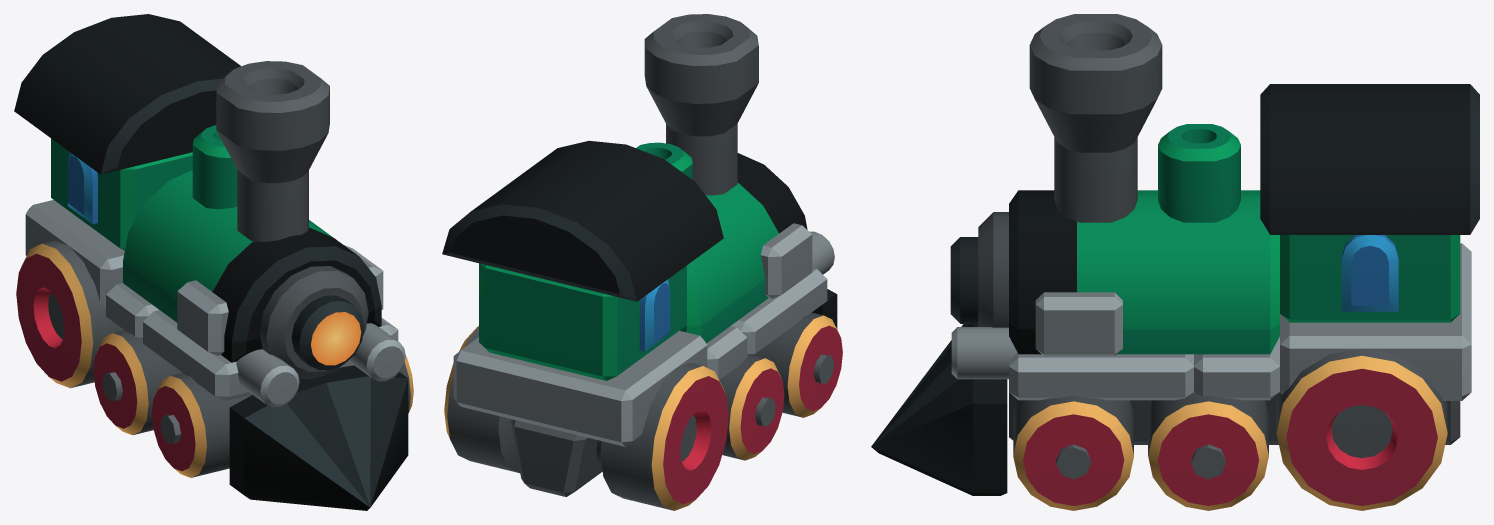
The model's file is kaykit-holiday-bits-train-locomotive-1aec5e-94b5c238.glb.
The picture shows the model from 3 angles, left to right: view 1: azimuth 30°, elevation 25°; view 2: azimuth 150°, elevation 25°; view 3: azimuth 270°, elevation 25°; orthographic projection. The views are drawn at different scales.
Parts seen in each view (by area): view 1: train_locomotive; view 2: train_locomotive; view 3: train_locomotive.
Part boxes in pixels (x1,y1,x2,y2): train_locomotive: (14,14,413,510); train_locomotive: (442,14,842,510); train_locomotive: (871,14,1479,510).
Size of the model in its own units: 0.4324 by 0.6487 by 0.8578.
2 materials, 2 textured.
